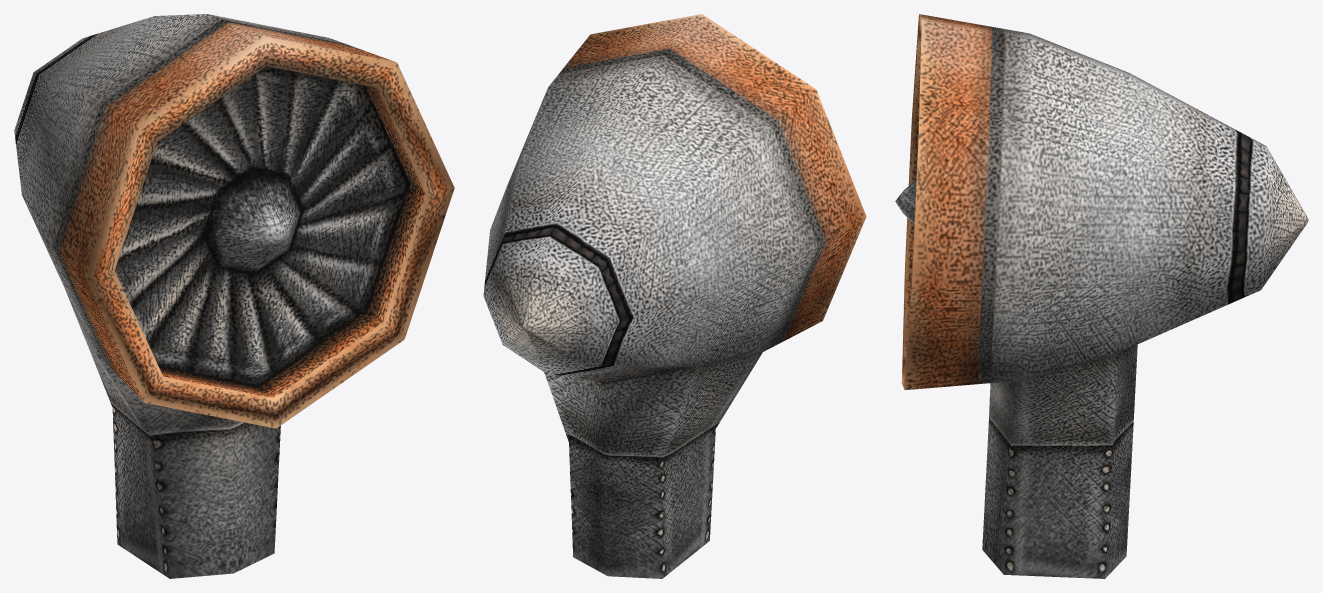
Rendered from HEAD_CHIBI_TURBINE.fbx.
The picture shows the model from 3 angles, left to right: view 1: azimuth 30°, elevation 25°; view 2: azimuth 150°, elevation 25°; view 3: azimuth 270°, elevation 25°; orthographic projection. The views are drawn at different scales.
Parts seen in each view (by area): view 1: HEAD_TURBINE; view 2: HEAD_TURBINE; view 3: HEAD_TURBINE.
Part boxes in pixels (x1,y1,x2,y2): HEAD_TURBINE: [14, 14, 454, 578]; HEAD_TURBINE: [483, 14, 866, 578]; HEAD_TURBINE: [895, 14, 1308, 578].
Size of the model in its own units: 0.0313 by 0.0462 by 0.0323.
